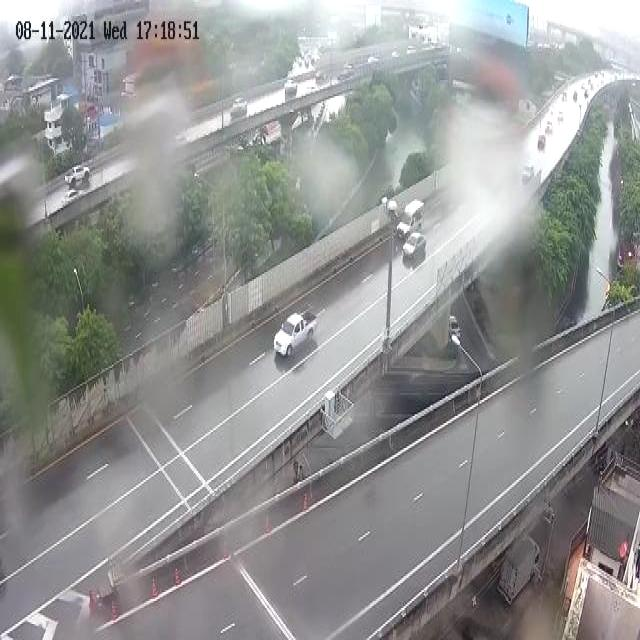Car: (396, 199, 424, 240), (403, 232, 426, 260), (61, 189, 84, 208), (448, 313, 462, 341), (522, 163, 534, 183), (232, 98, 247, 112), (285, 80, 298, 94), (538, 133, 546, 149)
Truck: (497, 534, 541, 606), (274, 309, 316, 357), (64, 165, 90, 188)
